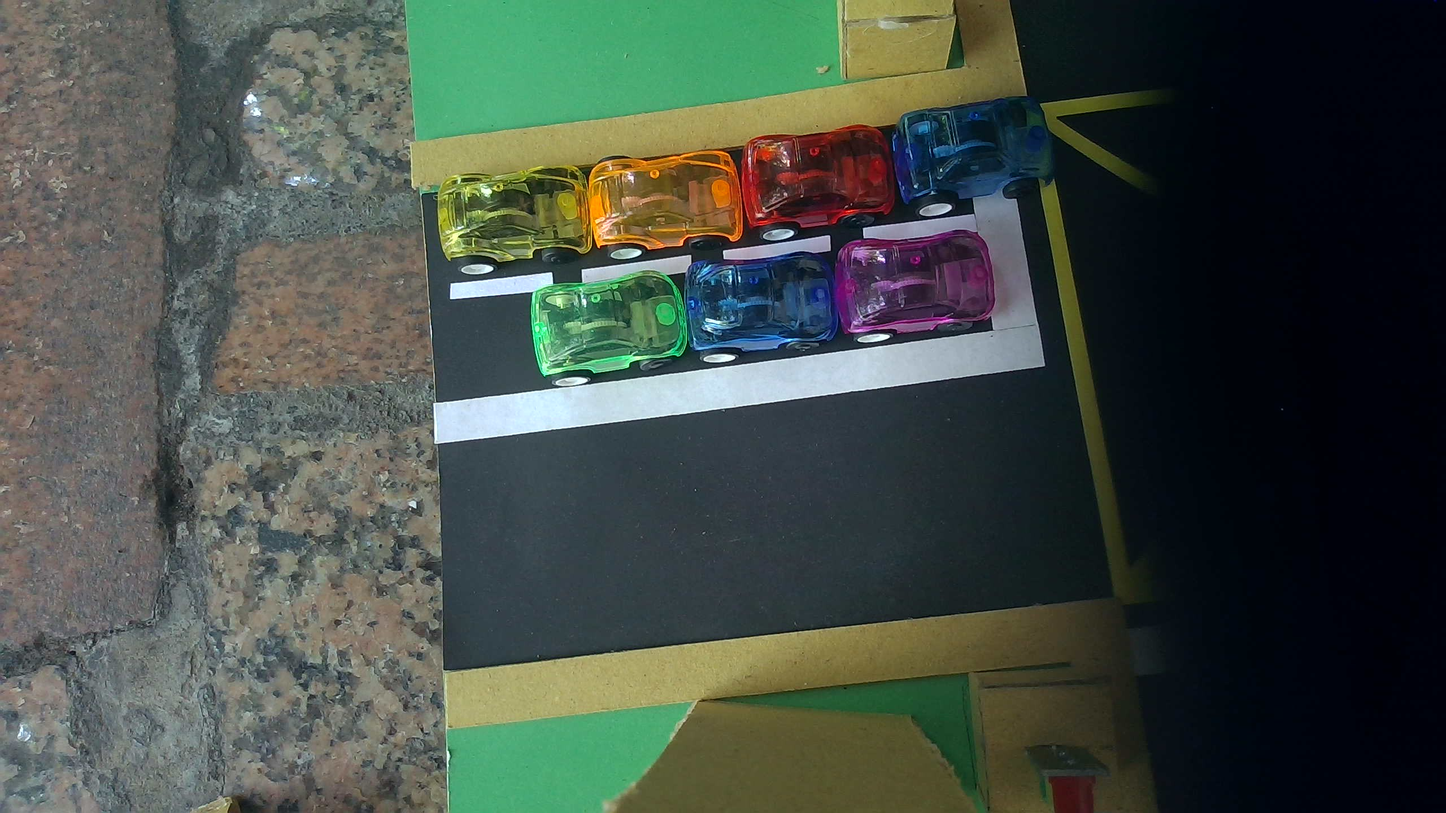Mobil biru: (892, 97, 1053, 217), (685, 252, 838, 363)
Mobil hijau: (531, 270, 687, 386)
Mobil kuning: (438, 166, 591, 275)
Mobil merah: (742, 125, 895, 241)
Mobil orange: (587, 151, 744, 259)
Mobil ungu: (834, 230, 995, 343)
